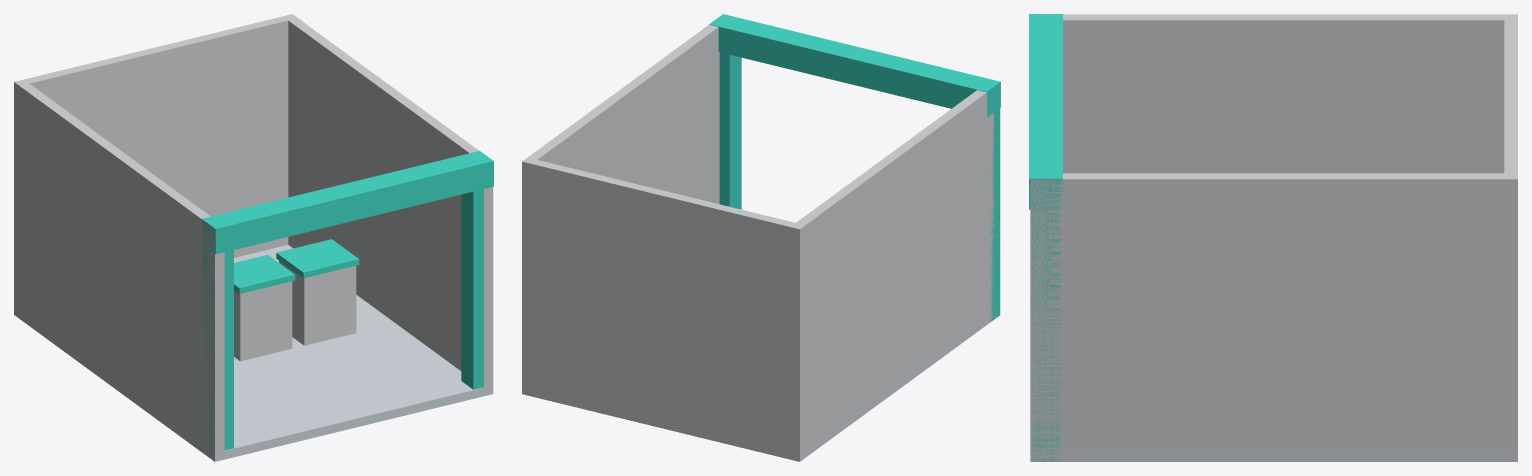
3 views of the same model, side by side, from view 1: azimuth 30°, elevation 25°; view 2: azimuth 150°, elevation 25°; view 3: azimuth 270°, elevation 25° (orthographic). The views are drawn at different scales.
Visible parts, largest first — view 1: Exhibition Booth Concept; view 2: Exhibition Booth Concept; view 3: Exhibition Booth Concept.
Boxes of the visible parts, box(x1,y1,x2,y2) form: Exhibition Booth Concept: box(14, 14, 493, 461); Exhibition Booth Concept: box(522, 14, 1000, 461); Exhibition Booth Concept: box(1029, 14, 1517, 461).
Size of the model in its own units: 4 by 3.2 by 5.02.
